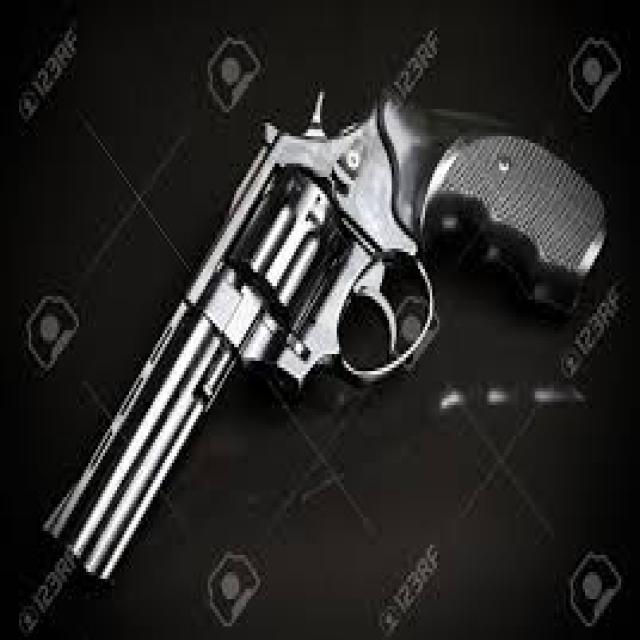gun: (29, 75, 609, 592)
